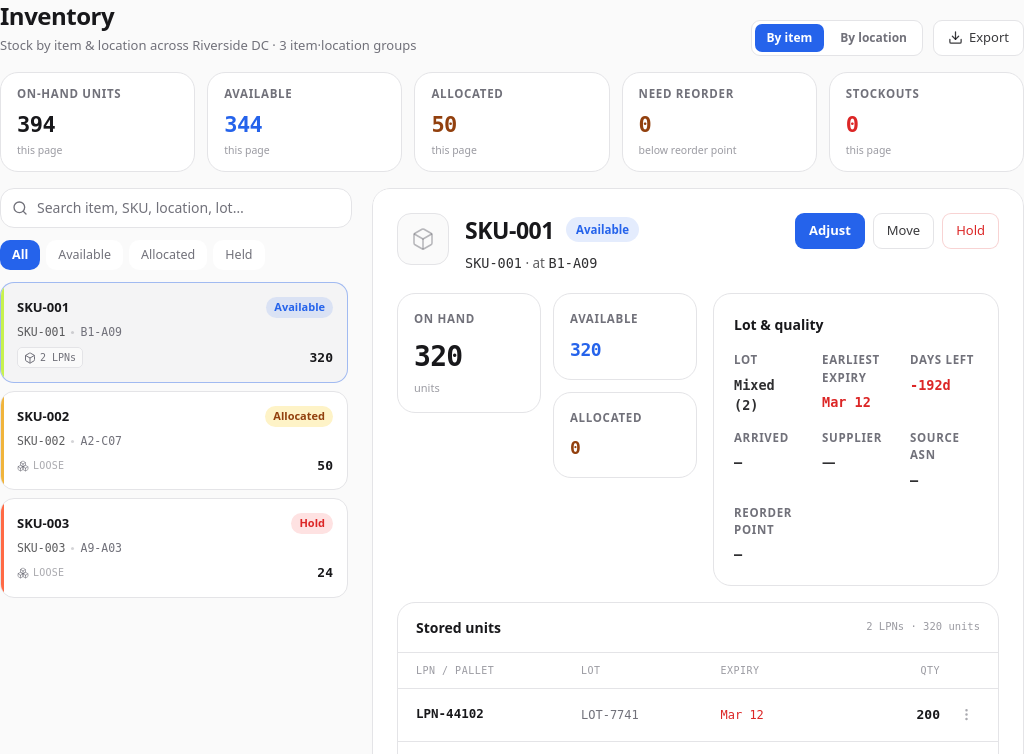
Test: InventoryPage › filters the list to held stock when Held is selected
This screenshot has width=1024, height=754.
Click the button "Held": (239, 255) [213,240,264,270]
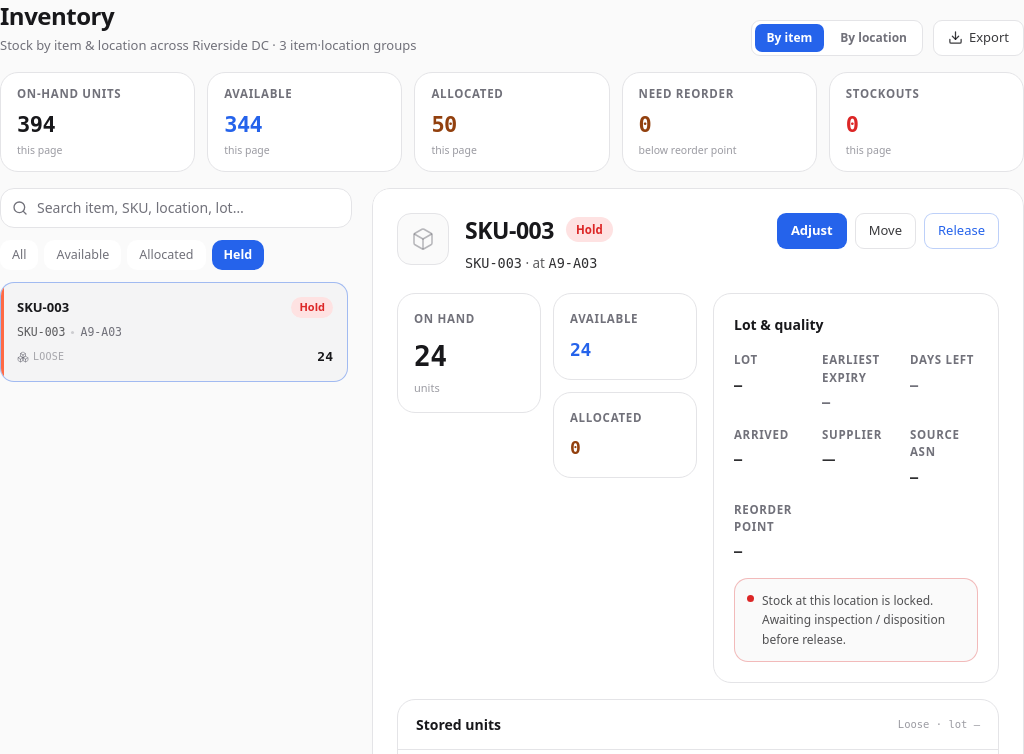
Expected: the element with test id "inv-row-SKU-003" is shown, [17,297,333,367]
Result: the element with test id "inv-row-SKU-002" is gone
Result: the element with test id "inv-row-SKU-001" is gone
